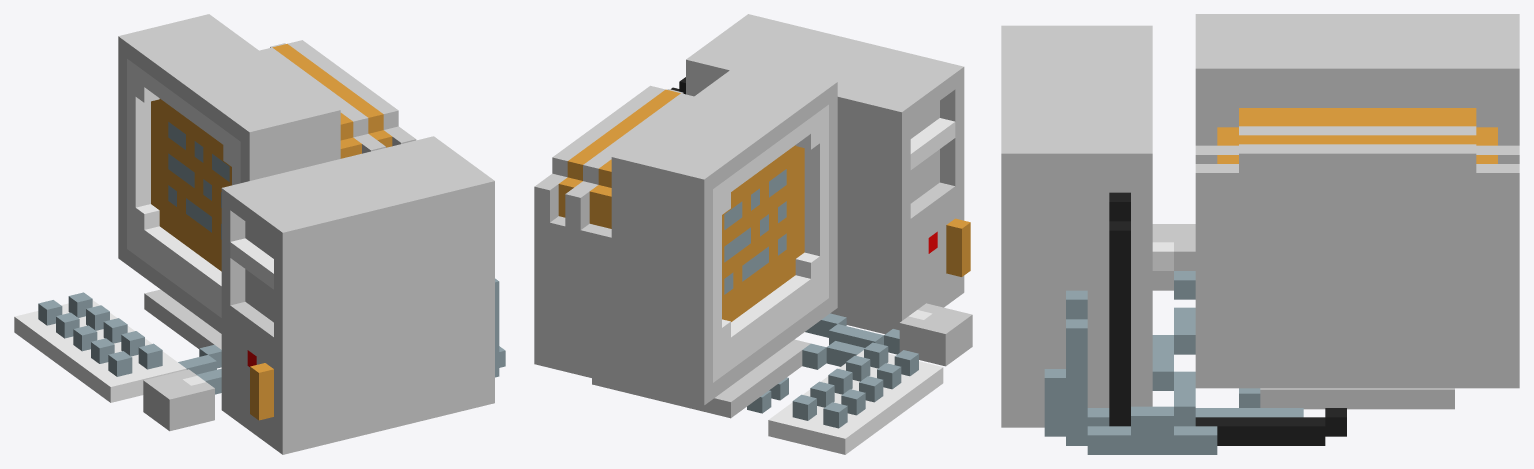
The model's file is Player House-1-Computer.obj.
The picture shows the model from 3 angles, left to right: view 1: azimuth 30°, elevation 25°; view 2: azimuth 150°, elevation 25°; view 3: azimuth 270°, elevation 25°; orthographic projection. The views are drawn at different scales.
Parts seen in each view (by area): view 1: Computer; view 2: Computer; view 3: Computer.
Boxes of the visible parts, x1,y1,x2,y2 form: Computer: [14, 14, 505, 454]; Computer: [534, 14, 972, 454]; Computer: [1001, 14, 1519, 454].
Size of the model in its own units: 2.2 by 1.9 by 2.4.
Materials: 1 (1 with a texture image).
